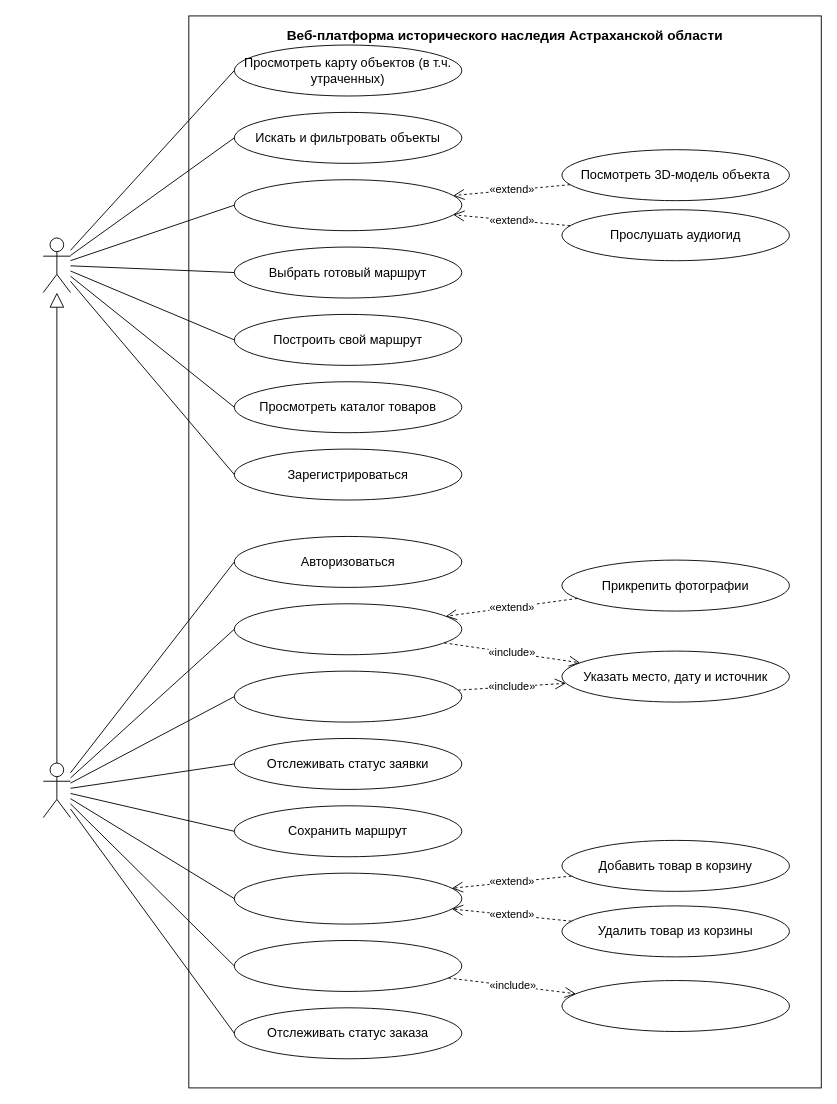
This 837x1104 diagram has some shape labels left out. The shapes that lost their labels are listed below. From the top down, each one's box as (x1, y1, x2, y2) in pixels, then its label:
(233, 179, 462, 231): Просмотреть карточку объекта
(42, 237, 71, 293): Гость
(233, 603, 462, 655): Подать заявку на добавление объекта
(233, 670, 462, 722): Предложить фото или сведения к объекту
(42, 762, 71, 818): Пользователь
(233, 872, 462, 924): Управлять корзиной
(233, 940, 462, 991): Оформить заказ
(561, 980, 789, 1031): Оплатить заказ
